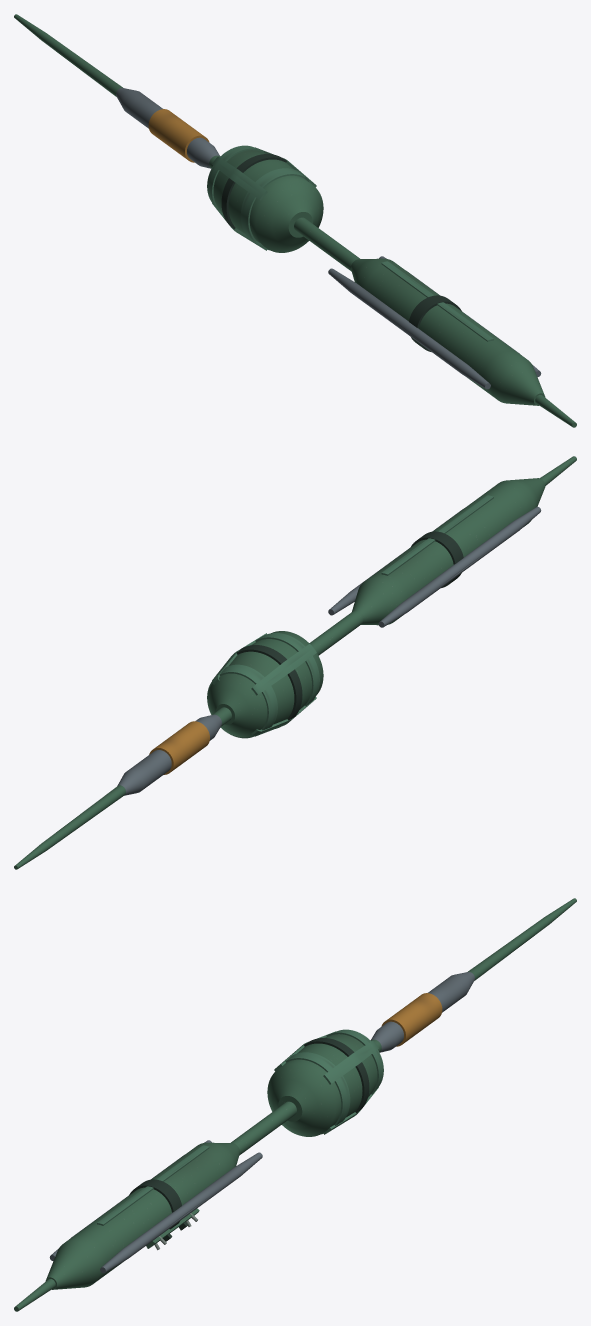
3 renders of one model, top to bottom at view 1: azimuth 30°, elevation 25°; view 2: azimuth 150°, elevation 25°; view 3: azimuth 330°, elevation 25°, orthographic.
Visible parts, largest first — view 1: Mikotaj Convulsion green extended section, Mikotaj Convulsion green compact centre, Mikotaj Convulsion green axial spine, Mikotaj Convulsion grey left edging, Mikotaj Convulsion grey rear stem, Mikotaj Convulsion orange rear coupling, Mikotaj Convulsion body band 0, Mikotaj Convulsion pale longitudinal casting 5, Mikotaj Convulsion pale longitudinal casting 2, Mikotaj Convulsion body band 1, Mikotaj Convulsion body band 3, Mikotaj Convulsion body band 2; view 2: Mikotaj Convulsion green extended section, Mikotaj Convulsion green compact centre, Mikotaj Convulsion green axial spine, Mikotaj Convulsion grey left edging, Mikotaj Convulsion grey rear stem, Mikotaj Convulsion orange rear coupling, Mikotaj Convulsion body band 2, Mikotaj Convulsion pale longitudinal casting 2, Mikotaj Convulsion body band 1, Mikotaj Convulsion pale longitudinal casting 5, Mikotaj Convulsion body band 0, Mikotaj Convulsion body band 3; view 3: Mikotaj Convulsion green extended section, Mikotaj Convulsion green compact centre, Mikotaj Convulsion green axial spine, Mikotaj Convulsion grey right edging, Mikotaj Convulsion grey rear stem, Mikotaj Convulsion orange rear coupling, Mikotaj Convulsion body band 0, Mikotaj Convulsion pale longitudinal casting 5, Mikotaj Convulsion pale longitudinal casting 3, Mikotaj Convulsion body band 1, Mikotaj Convulsion body band 3, Mikotaj Convulsion body band 2.
Boxes of the visible parts, x1,y1,x2,y2 form: Mikotaj Convulsion green extended section: (351, 258, 545, 405); Mikotaj Convulsion green compact centre: (213, 150, 323, 252); Mikotaj Convulsion green axial spine: (14, 14, 576, 427); Mikotaj Convulsion grey left edging: (328, 268, 490, 389); Mikotaj Convulsion grey rear stem: (116, 88, 220, 168); Mikotaj Convulsion orange rear coupling: (148, 109, 209, 162); Mikotaj Convulsion body band 0: (240, 168, 305, 250); Mikotaj Convulsion pale longitudinal casting 5: (381, 261, 493, 341); Mikotaj Convulsion pale longitudinal casting 2: (212, 156, 267, 200); Mikotaj Convulsion body band 1: (221, 154, 286, 229); Mikotaj Convulsion body band 3: (409, 295, 461, 351); Mikotaj Convulsion body band 2: (207, 145, 264, 210); Mikotaj Convulsion green extended section: (352, 478, 545, 625); Mikotaj Convulsion green compact centre: (207, 631, 323, 737); Mikotaj Convulsion green axial spine: (14, 456, 576, 869); Mikotaj Convulsion grey left edging: (378, 506, 541, 627); Mikotaj Convulsion grey rear stem: (117, 714, 221, 795); Mikotaj Convulsion orange rear coupling: (149, 721, 209, 774); Mikotaj Convulsion body band 2: (207, 664, 277, 738); Mikotaj Convulsion pale longitudinal casting 2: (251, 644, 316, 695); Mikotaj Convulsion body band 1: (236, 645, 302, 728); Mikotaj Convulsion pale longitudinal casting 5: (381, 495, 493, 575); Mikotaj Convulsion body band 0: (255, 633, 319, 706); Mikotaj Convulsion body band 3: (410, 531, 463, 587); Mikotaj Convulsion green extended section: (45, 1142, 239, 1289); Mikotaj Convulsion green compact centre: (267, 1034, 377, 1136); Mikotaj Convulsion green axial spine: (14, 898, 576, 1311); Mikotaj Convulsion grey right edging: (100, 1152, 262, 1273); Mikotaj Convulsion grey rear stem: (370, 972, 474, 1052); Mikotaj Convulsion orange rear coupling: (381, 993, 442, 1046); Mikotaj Convulsion body band 0: (285, 1052, 350, 1134); Mikotaj Convulsion pale longitudinal casting 5: (97, 1145, 209, 1225); Mikotaj Convulsion pale longitudinal casting 3: (323, 1040, 378, 1084); Mikotaj Convulsion body band 1: (304, 1038, 369, 1113); Mikotaj Convulsion body band 3: (129, 1179, 181, 1229); Mikotaj Convulsion body band 2: (326, 1029, 383, 1094).
Size of the model in its own units: 0.157 by 0.157 by 2.
6 materials, 4 textured.
